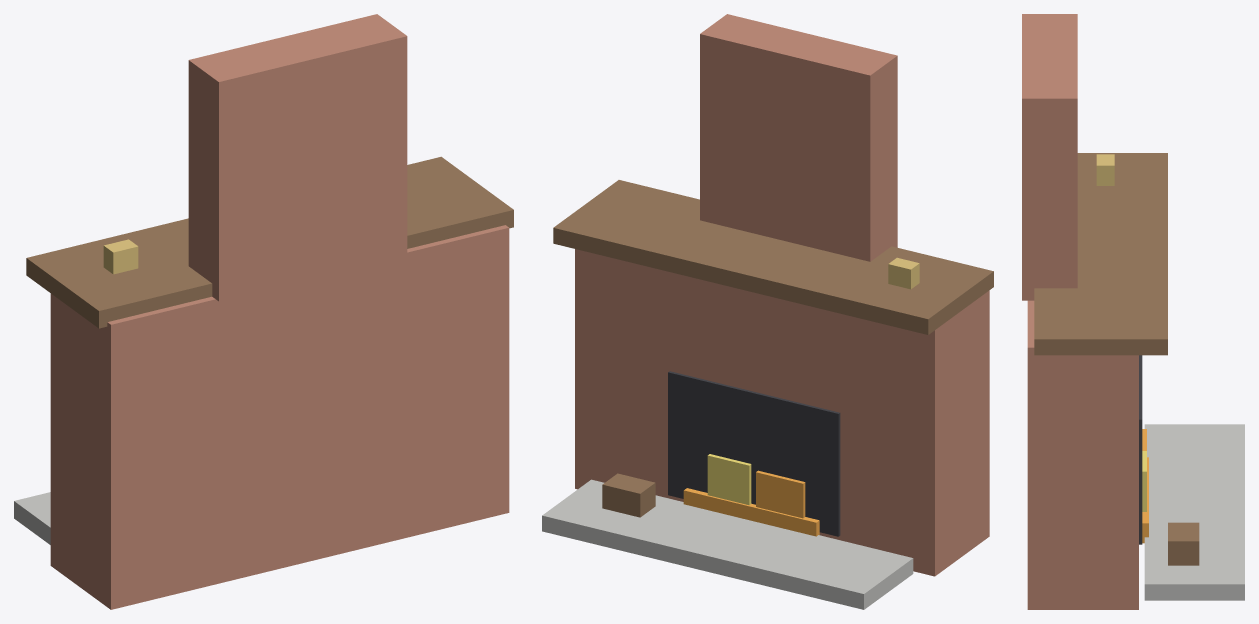
Rendered from fireplace.glb.
3 renders of one model, left to right at view 1: azimuth 30°, elevation 25°; view 2: azimuth 150°, elevation 25°; view 3: azimuth 270°, elevation 25°, orthographic. The views are drawn at different scales.
Visible parts, largest first — view 1: fireplace; view 2: fireplace; view 3: fireplace.
Part boxes in pixels (x1,y1,x2,y2): fireplace: (14, 14, 513, 609); fireplace: (542, 14, 993, 609); fireplace: (1022, 14, 1244, 609).
Size of the model in its own units: 1.98 by 2.3 by 1.
